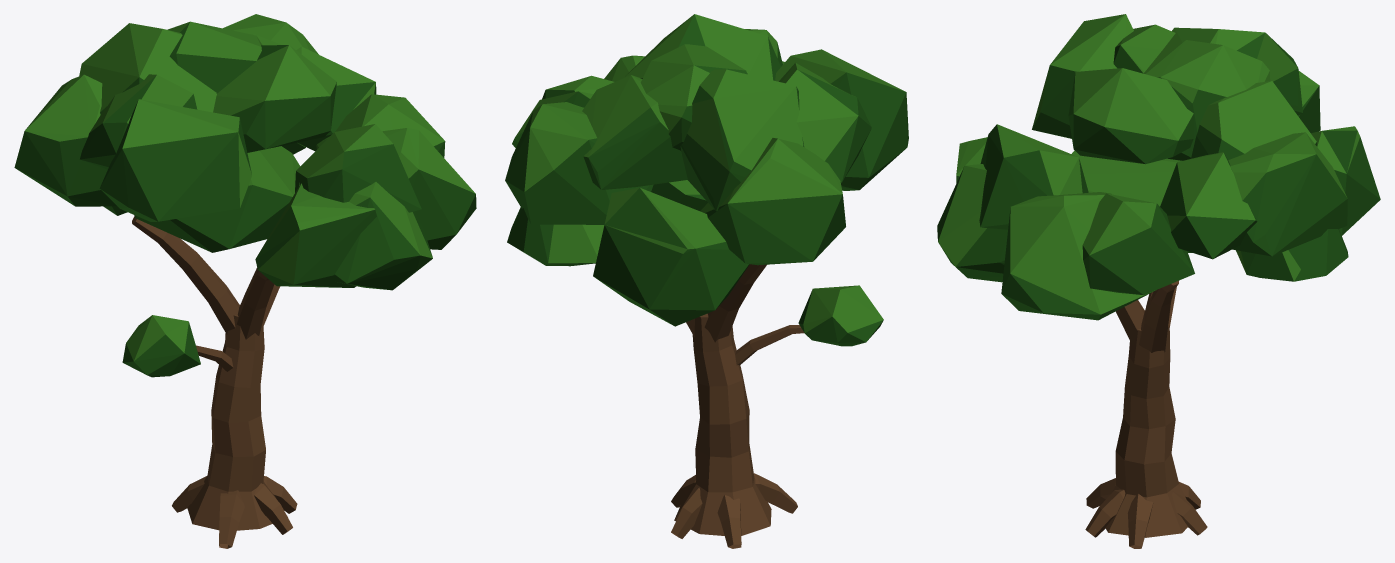
Rendered from tree_oak.glb.
The picture shows the model from 3 angles, left to right: view 1: azimuth 30°, elevation 25°; view 2: azimuth 150°, elevation 25°; view 3: azimuth 270°, elevation 25°; orthographic projection. The views are drawn at different scales.
Parts seen in each view (by area): view 1: TreeOak; view 2: TreeOak; view 3: TreeOak.
Boxes of the visible parts, x1,y1,x2,y2 form: TreeOak: [14, 14, 476, 548]; TreeOak: [505, 14, 908, 548]; TreeOak: [937, 14, 1380, 548].
Size of the model in its own units: 4.44 by 5.66 by 4.75.
